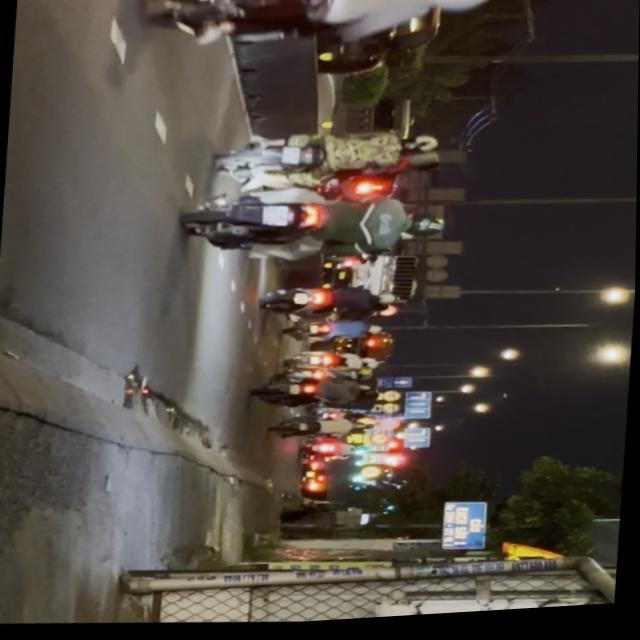helmet: (426, 0, 496, 22), (406, 217, 448, 241)
licenseplate: (131, 0, 501, 71), (181, 182, 451, 277)
nohelmet: (263, 207, 290, 230)
